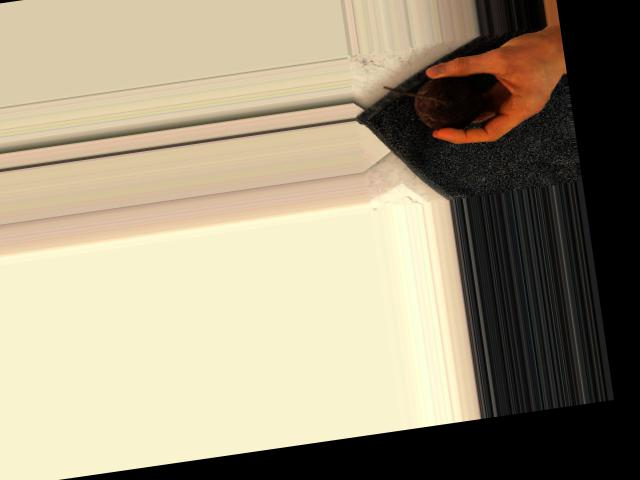beet: (382, 72, 485, 138)
